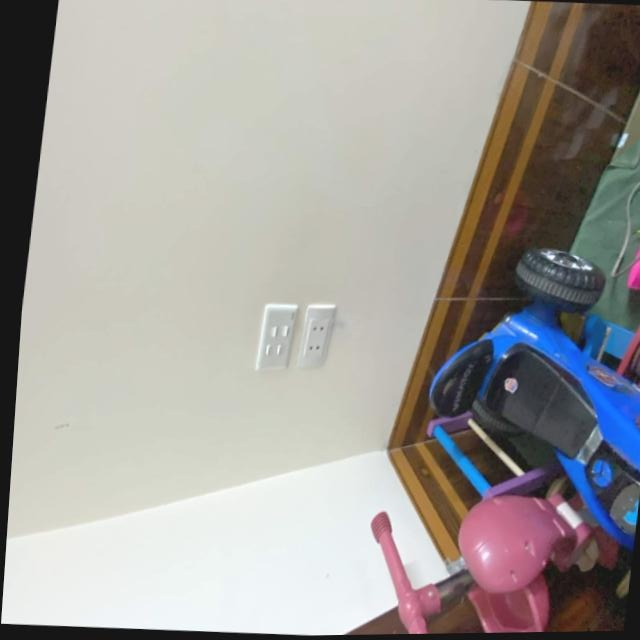outlet: (296, 303, 337, 371)
